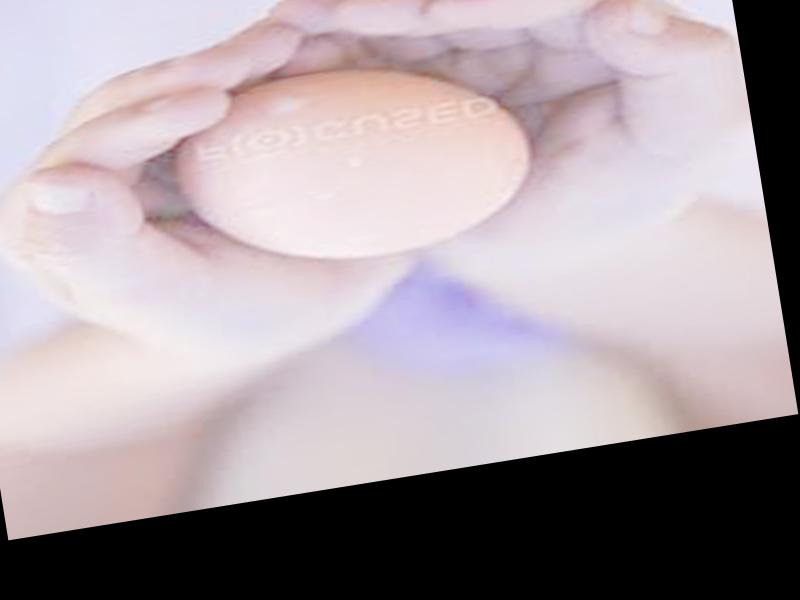Eggs: (168, 40, 548, 286)
